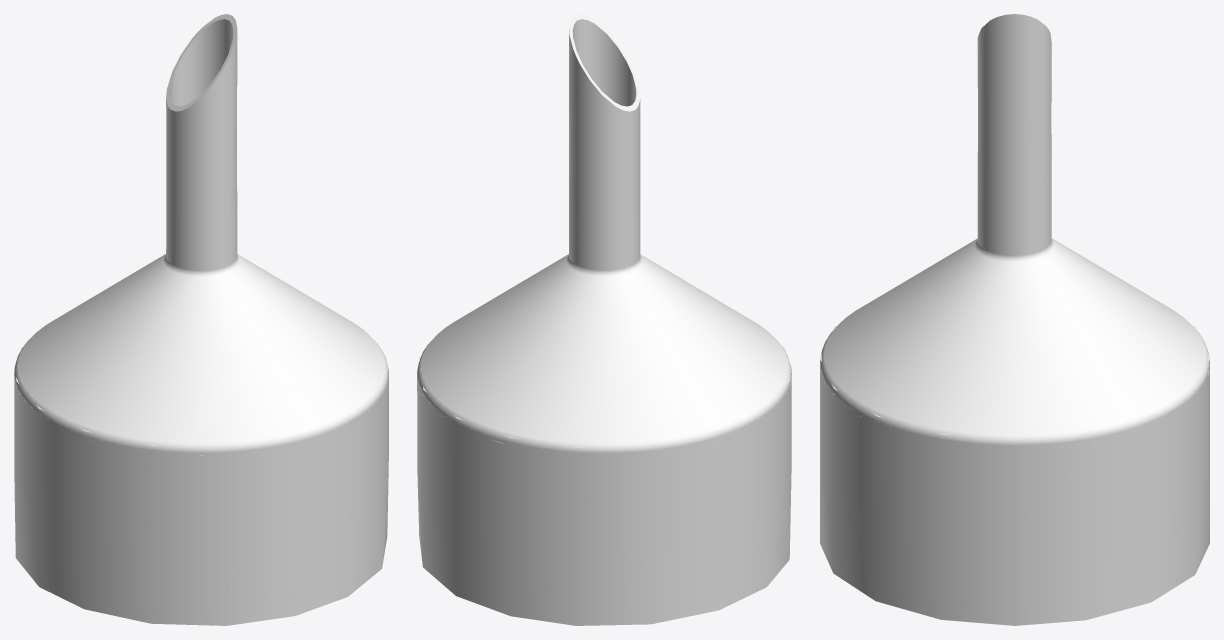
Rendered from Brinell funnel.fbx.
The picture shows the model from 3 angles, left to right: view 1: azimuth 30°, elevation 25°; view 2: azimuth 150°, elevation 25°; view 3: azimuth 270°, elevation 25°; orthographic projection. The views are drawn at different scales.
Visible parts, largest first — view 1: 物件_13, 物件_6, 物件_5, 物件_1, 物件_4, 物件_3, 物件_7; view 2: 物件_13, 物件_6, 物件_5, 物件_1, 物件_4, 物件_3, 物件_7; view 3: 物件_13, 物件_6, 物件_5, 物件_1, 物件_7.
Boxes of the visible parts, x1,y1,x2,y2 form: 物件_13: (14,369,388,625); 物件_6: (18,254,384,443); 物件_5: (166,29,237,270); 物件_1: (14,340,388,452); 物件_4: (170,19,233,106); 物件_3: (166,14,237,111); 物件_7: (163,255,239,277); 物件_13: (417,369,791,625); 物件_6: (421,254,787,443); 物件_5: (569,29,640,270); 物件_1: (417,336,791,453); 物件_4: (572,19,636,106); 物件_3: (569,14,639,111); 物件_7: (566,255,642,276); 物件_13: (820,362,1209,625); 物件_6: (824,238,1205,435); 物件_5: (977,14,1051,255); 物件_1: (820,326,1209,445); 物件_7: (974,239,1054,262).
Bounding box in the file's own units: 100 × 100 × 154.
Materials: 1 (1 with a texture image).
